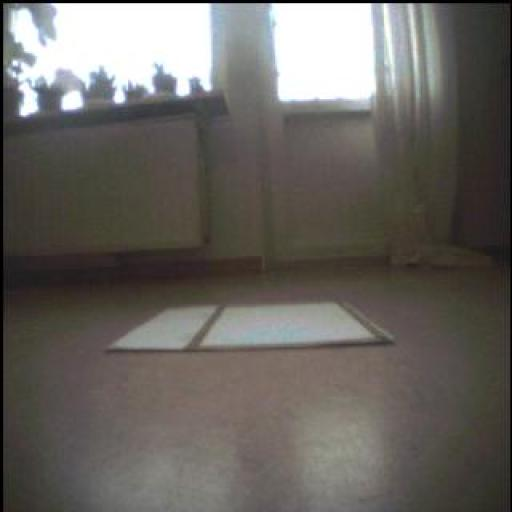Pad: (113, 301, 389, 351)
